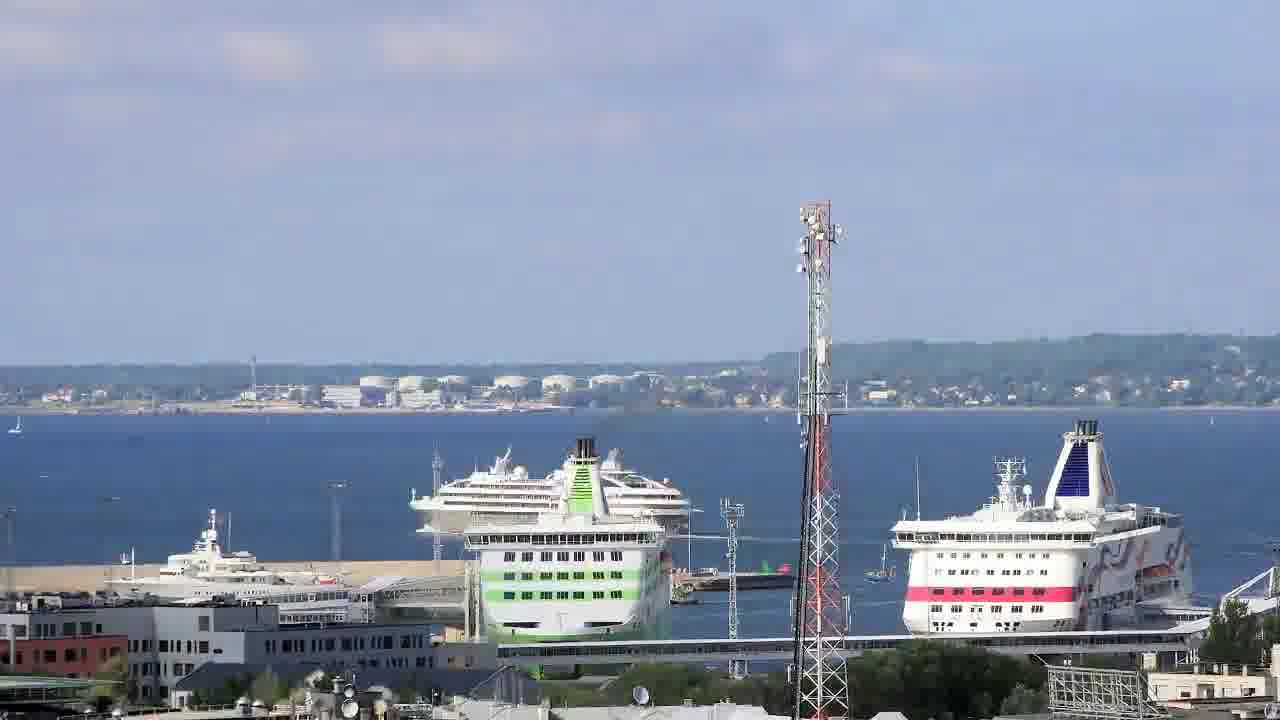type-0: (860, 545, 894, 590)
type-2: (9, 410, 32, 443)
type-3: (868, 415, 1225, 638), (436, 434, 694, 670), (402, 451, 711, 543), (95, 514, 356, 622)
